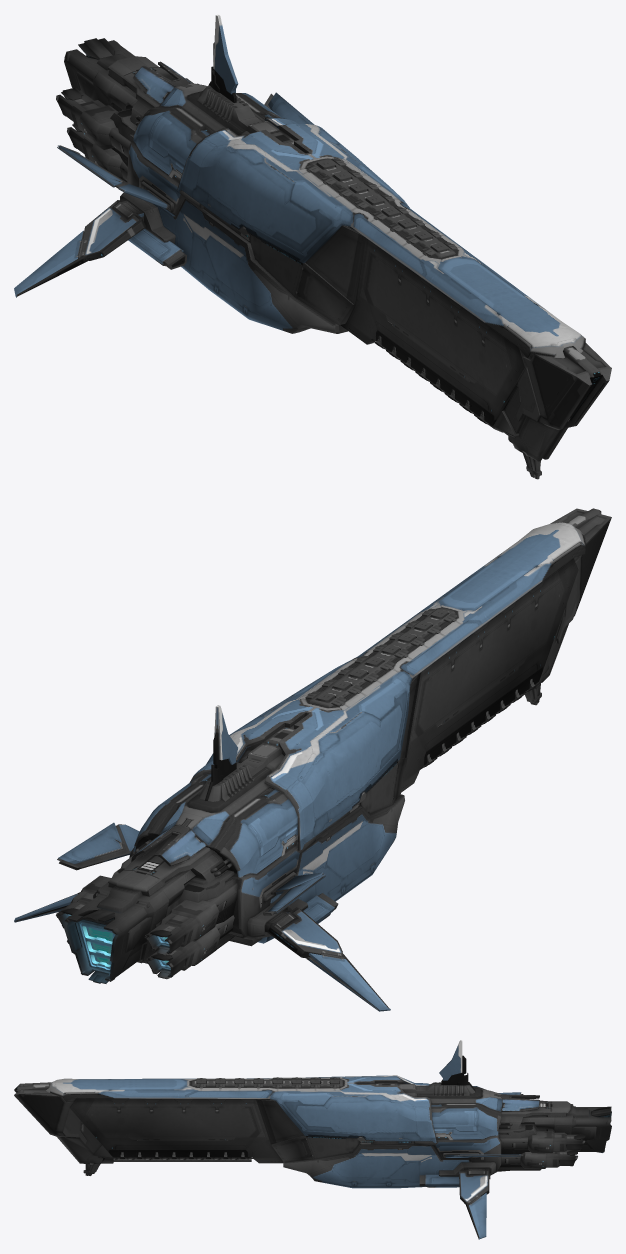
Rendered from 44996_lite.glb.
3 views of the same model, one above another, from view 1: azimuth 30°, elevation 25°; view 2: azimuth 150°, elevation 25°; view 3: azimuth 270°, elevation 25° (orthographic). The views are drawn at different scales.
Parts seen in each view (by area): view 1: ship; view 2: ship; view 3: ship.
Boxes of the visible parts, box(x1,y1,x2,y2) form: ship: box(14, 14, 611, 479); ship: box(14, 508, 611, 1011); ship: box(14, 1040, 611, 1239).
Bounding box in the file's own units: 7.99 × 5.04 × 18.8.
Materials: 1 (1 with a texture image).
